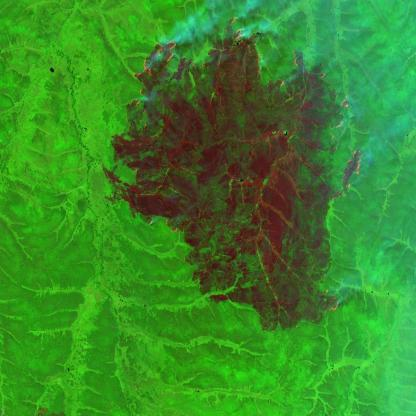fire: (123, 11, 366, 192), (315, 285, 344, 322), (157, 208, 183, 238)
